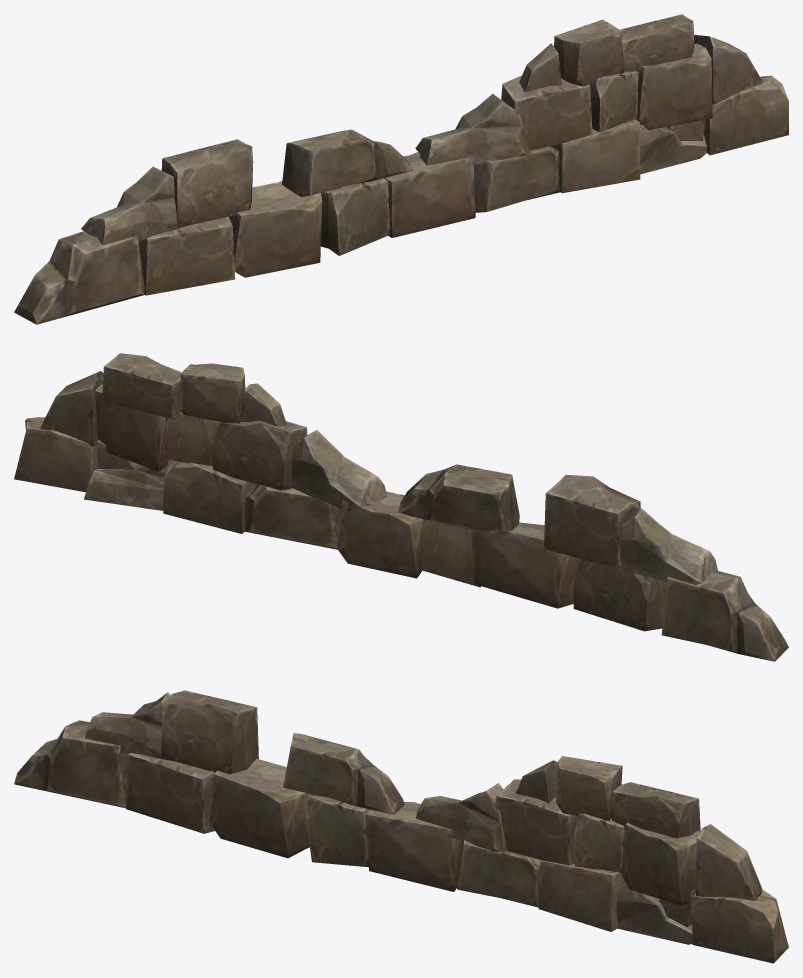
The model's file is nashgar_object_ruinswall_c.FBX.
3 views of the same model, one above another, from view 1: azimuth 30°, elevation 25°; view 2: azimuth 150°, elevation 25°; view 3: azimuth 330°, elevation 25° (orthographic).
Parts seen in each view (by area): view 1: nashgar_object_ruinswall_c; view 2: nashgar_object_ruinswall_c; view 3: nashgar_object_ruinswall_c.
Boxes of the visible parts, x1,y1,x2,y2 form: nashgar_object_ruinswall_c: [14, 14, 788, 324]; nashgar_object_ruinswall_c: [14, 353, 788, 661]; nashgar_object_ruinswall_c: [14, 690, 788, 963].
Bounding box in the file's own units: 15.06 × 2.86 × 1.07.
